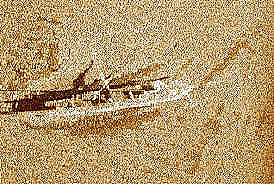ship: (43, 71, 195, 118)
